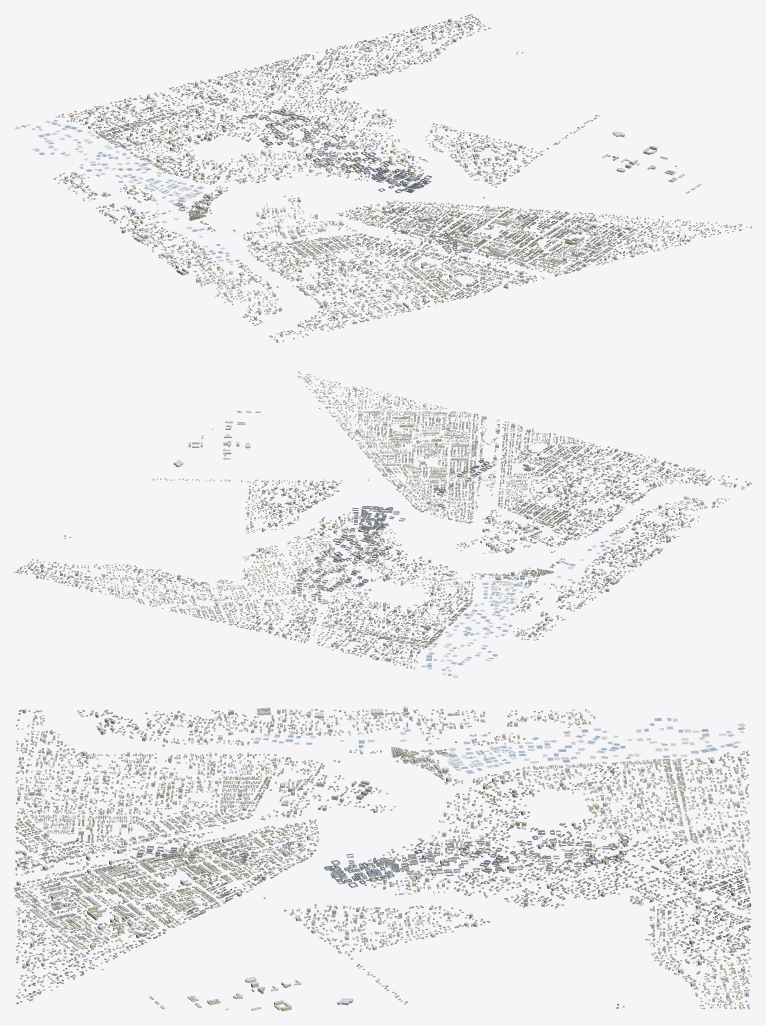
The picture shows the model from 3 angles, top to bottom: view 1: azimuth 30°, elevation 25°; view 2: azimuth 150°, elevation 25°; view 3: azimuth 270°, elevation 25°; orthographic projection. The views are drawn at different scales.
Visible parts, largest first — view 1: house, apartment, roof_zinc, roof_flat, factory; view 2: house, apartment, roof_zinc, roof_flat, factory; view 3: house, roof_zinc, apartment, roof_flat, factory.
Part boxes in pixels (x1,y1,x2,y2): house: (53,14,751,342); apartment: (64,18,701,341); roof_zinc: (14,17,747,342); roof_flat: (65,19,700,339); factory: (241,109,467,253); house: (14,371,751,669); apartment: (36,386,749,665); roof_zinc: (18,374,751,677); roof_flat: (36,387,749,663); factory: (291,459,492,603); house: (14,709,751,1009); roof_zinc: (15,710,751,1009); apartment: (15,706,750,1011); roof_flat: (16,706,750,1009); factory: (136,830,629,887).
Bounding box in the file's own units: 1.41e+08 × 725944 × 1.45e+08.
